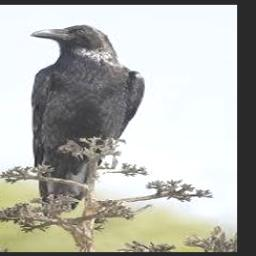Crow: (30, 25, 144, 219)
